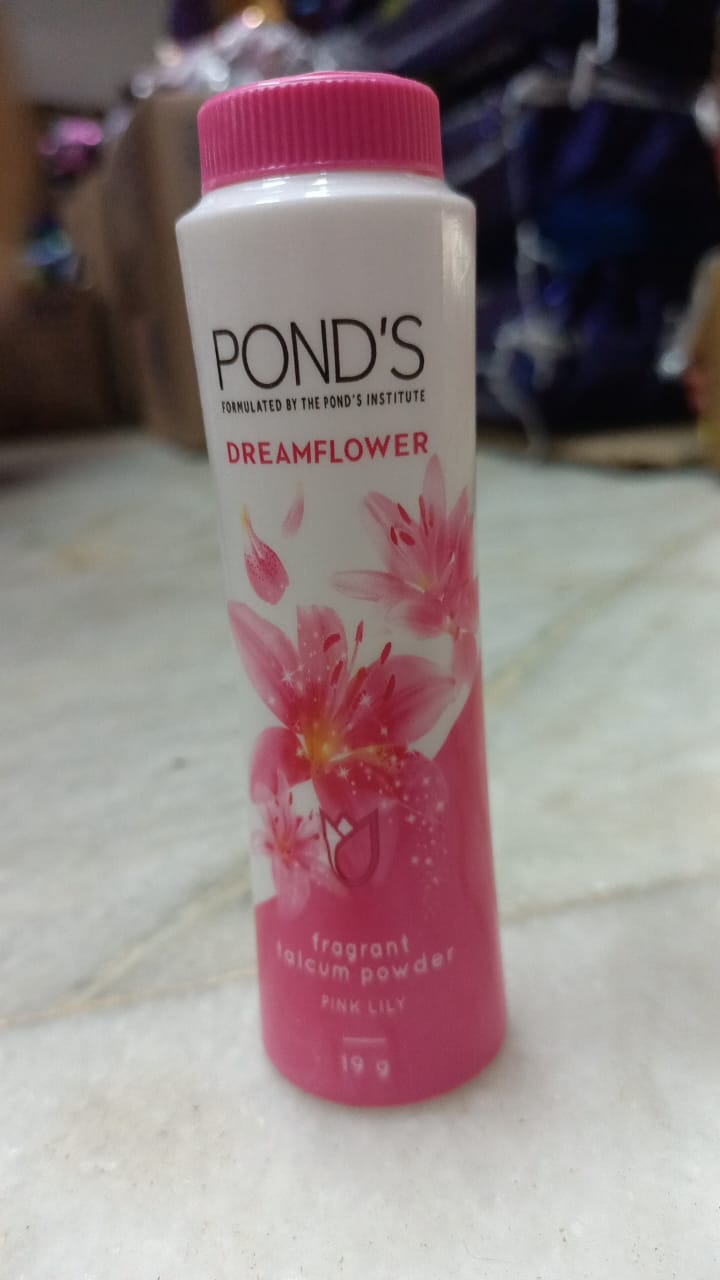ponds face powder: (150, 38, 525, 1118)
